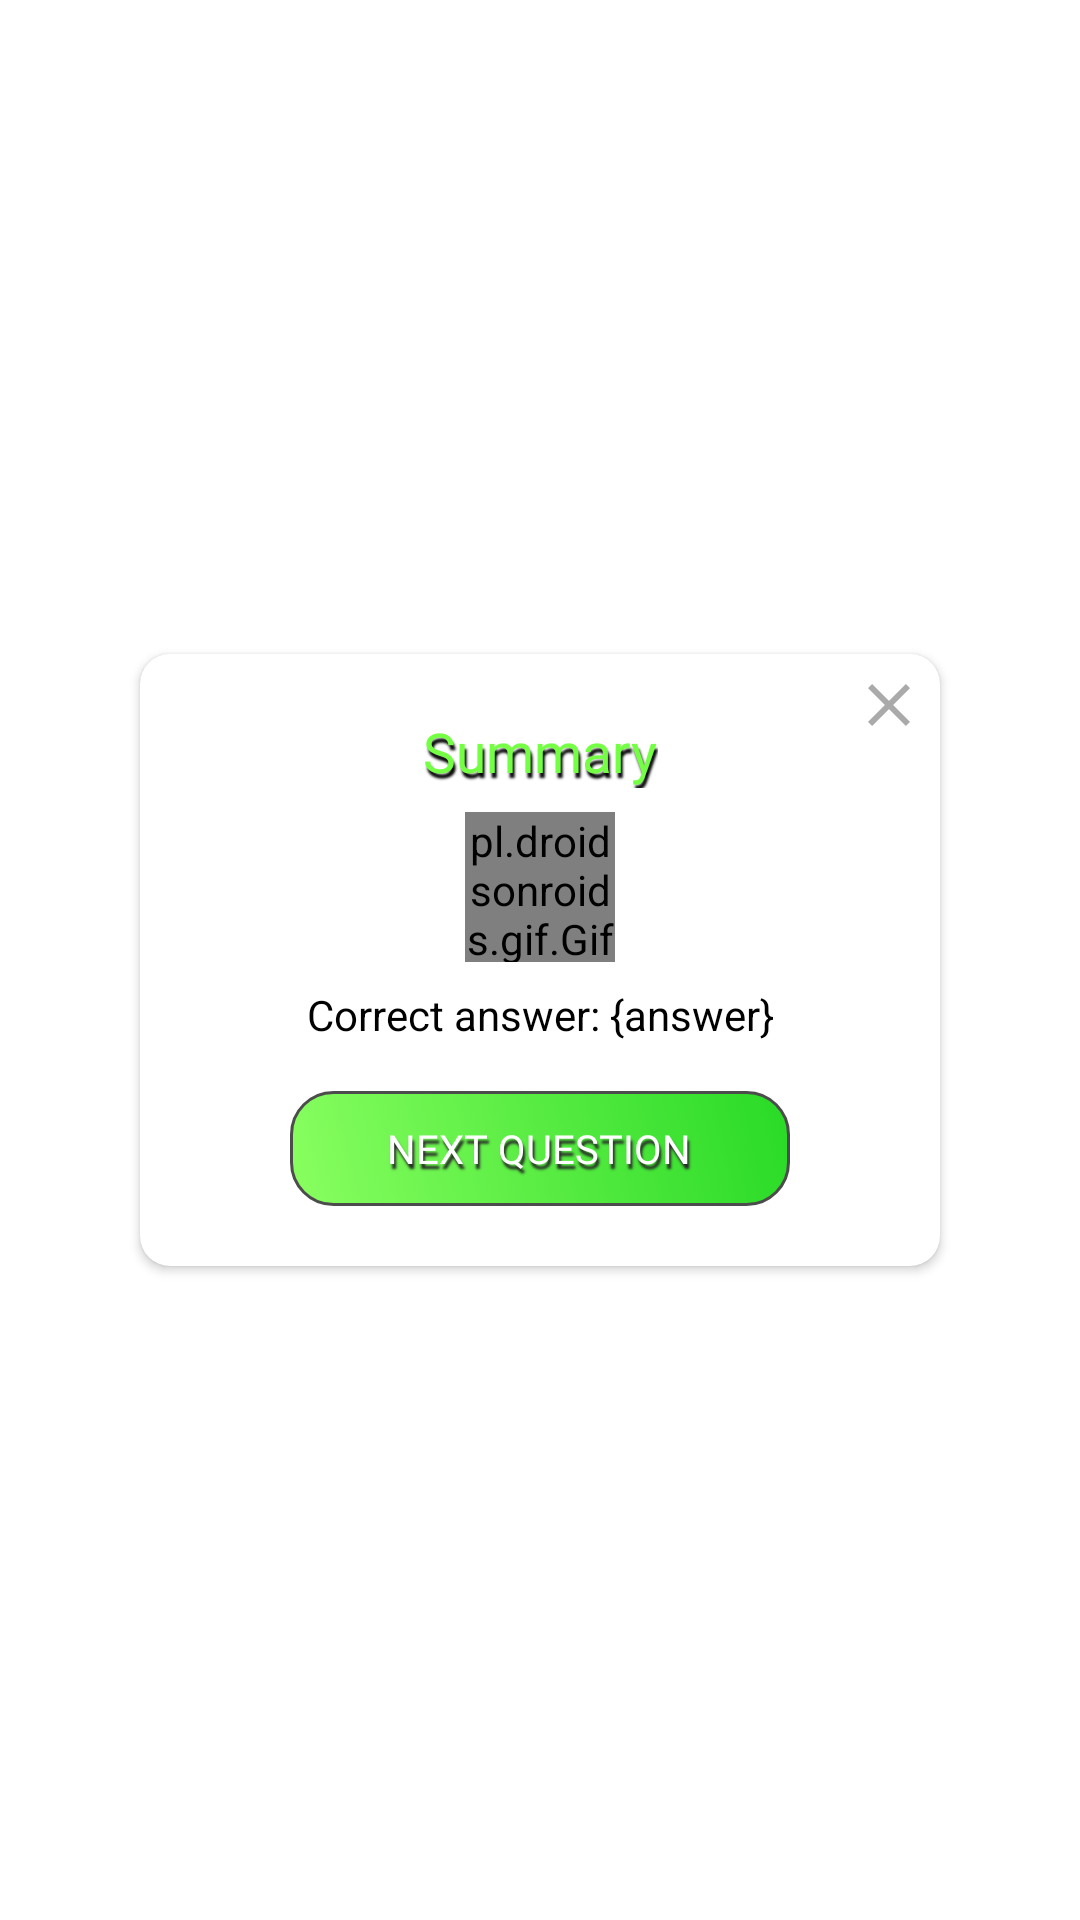

Where to tap for icons on this 1080w x 1920h app screen, as point (x, y):
close: point (889, 705)
